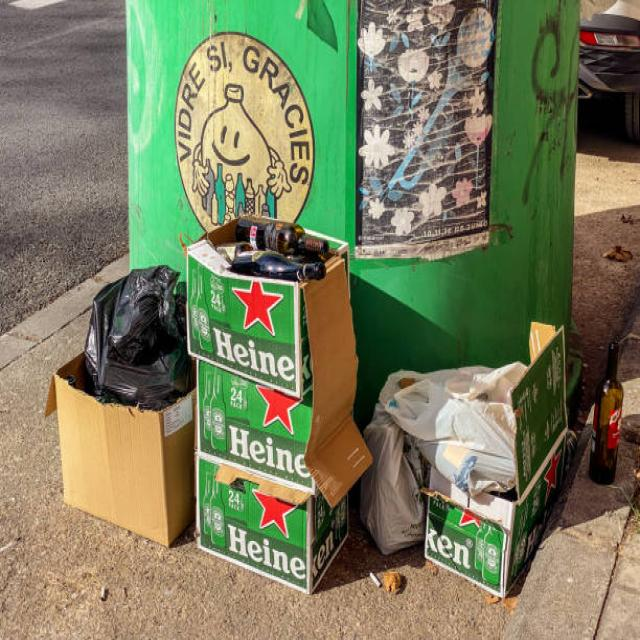cardboard: (189, 212, 356, 587), (419, 329, 568, 608), (36, 348, 182, 558)
glass: (586, 321, 628, 537), (237, 202, 337, 280)
trash: (358, 361, 516, 573), (75, 262, 197, 409)
